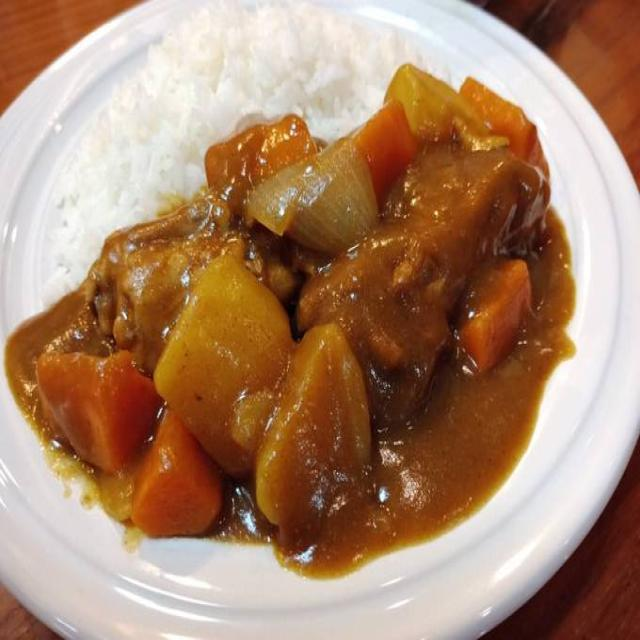cac loai rau cu: (254, 328, 393, 540), (77, 219, 246, 351), (172, 261, 284, 452), (38, 338, 159, 467), (128, 415, 230, 540), (195, 114, 316, 205), (456, 267, 551, 380), (280, 157, 374, 248), (474, 74, 558, 167), (402, 70, 484, 145)
com: (133, 2, 389, 126), (60, 40, 193, 223)
com ca ri: (0, 15, 600, 588)
thit bo: (306, 197, 465, 409), (406, 142, 558, 271)
